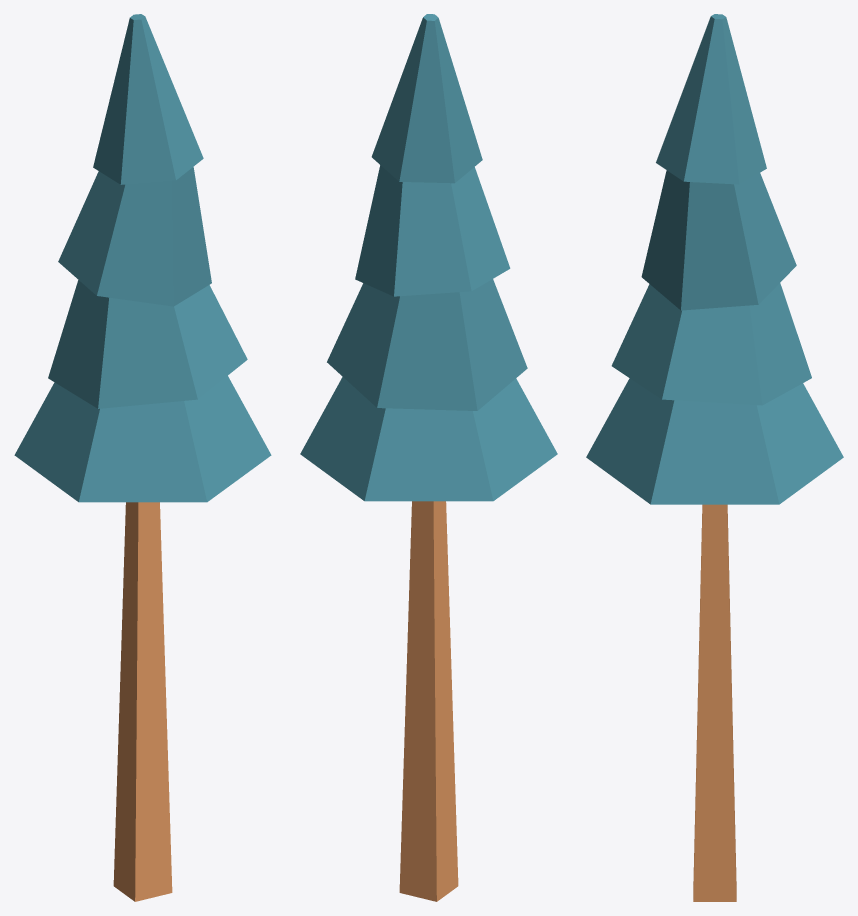
Rendered from tree_pine_tall.fbx.
3 renders of one model, left to right at view 1: azimuth 30°, elevation 25°; view 2: azimuth 150°, elevation 25°; view 3: azimuth 270°, elevation 25°, orthographic.
Parts seen in each view (by area): view 1: tree_pine_tall; view 2: tree_pine_tall; view 3: tree_pine_tall.
Part boxes in pixels (box(x1,y1,x2,y2)): tree_pine_tall: box(14, 14, 271, 901); tree_pine_tall: box(300, 14, 557, 901); tree_pine_tall: box(586, 14, 843, 901).
Size of the model in its own units: 4.8 by 20.77 by 5.55.
